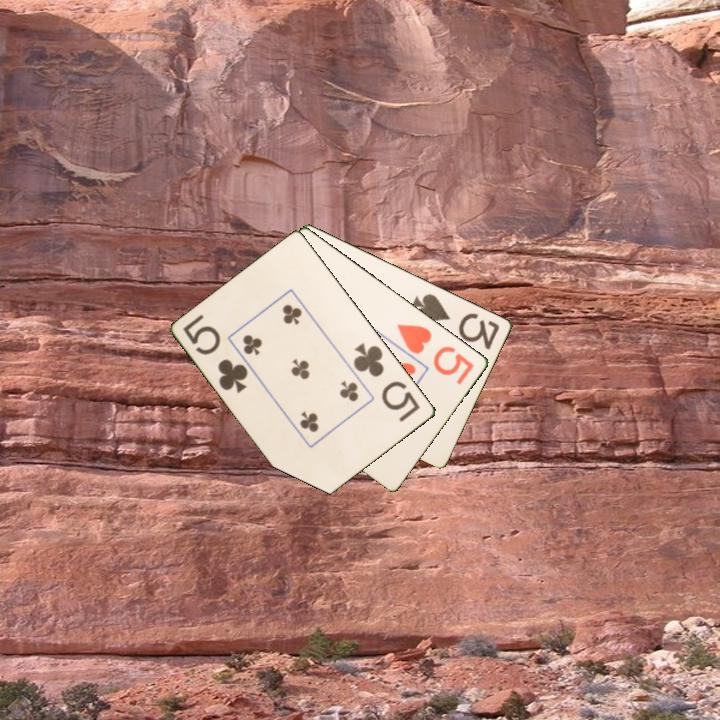3s: (408, 290, 503, 353)
5c: (350, 339, 423, 425), (180, 311, 251, 396)
5h: (394, 320, 478, 388)
